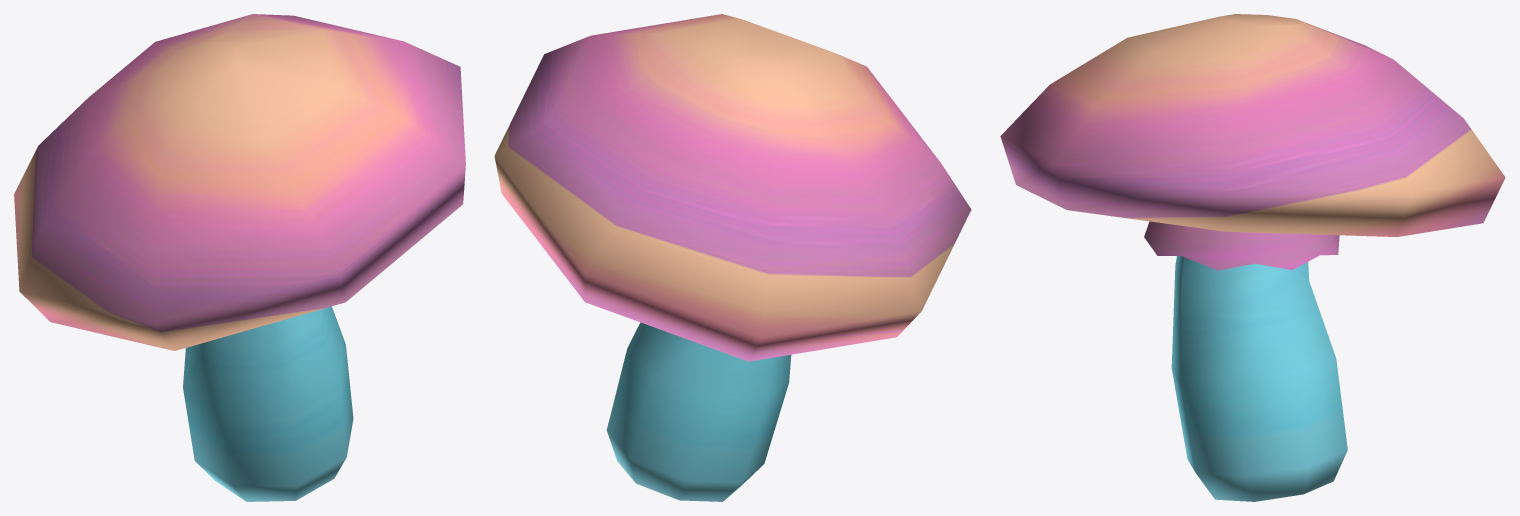
File: grande_peque07.fbx
The picture shows the model from 3 angles, left to right: view 1: azimuth 30°, elevation 25°; view 2: azimuth 150°, elevation 25°; view 3: azimuth 270°, elevation 25°; orthographic projection. The views are drawn at different scales.
Visible parts, largest first — view 1: SetaXS07; view 2: SetaXS07; view 3: SetaXS07.
Boxes of the visible parts, box(x1,y1,x2,y2) form: SetaXS07: box(14, 14, 465, 501); SetaXS07: box(494, 14, 971, 501); SetaXS07: box(1000, 14, 1505, 501).
Size of the model in its own units: 430 by 445 by 452.
Materials: 1 (1 with a texture image).
